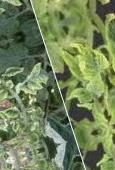Tomato leaf yellow virus: (70, 47, 107, 102), (99, 14, 115, 106), (91, 48, 115, 78), (1, 64, 26, 81), (24, 78, 45, 95), (0, 105, 20, 120), (0, 77, 3, 93)
